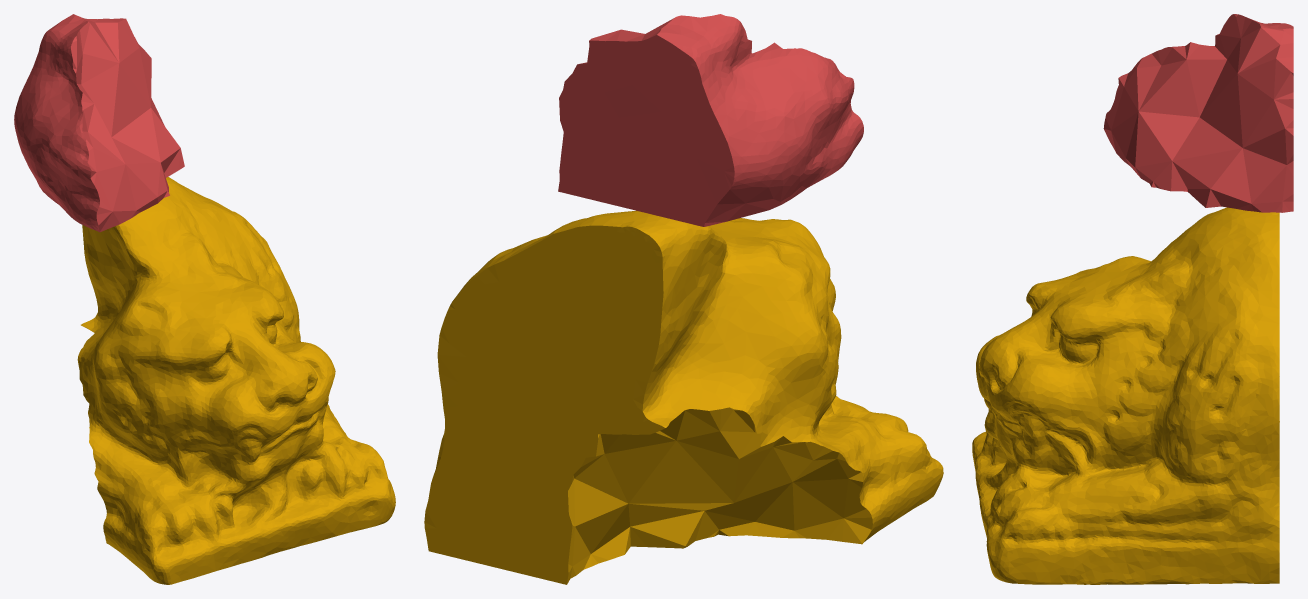
Rendered from fractured_77_2pcs_transformed.glb.
The picture shows the model from 3 angles, left to right: view 1: azimuth 30°, elevation 25°; view 2: azimuth 150°, elevation 25°; view 3: azimuth 270°, elevation 25°; orthographic projection. The views are drawn at different scales.
Visible parts, largest first — view 1: piece_0.obj, piece_1.obj; view 2: piece_0.obj, piece_1.obj; view 3: piece_0.obj, piece_1.obj.
Part boxes in pixels (<box>): piece_0.obj: <box>77,177,395,584</box>; piece_1.obj: <box>14,14,184,232</box>; piece_0.obj: <box>424,210,943,584</box>; piece_1.obj: <box>558,14,863,226</box>; piece_0.obj: <box>972,207,1279,584</box>; piece_1.obj: <box>1103,14,1293,212</box>.
Bounding box in the file's own units: 0.966 × 1.57 × 0.9786.
